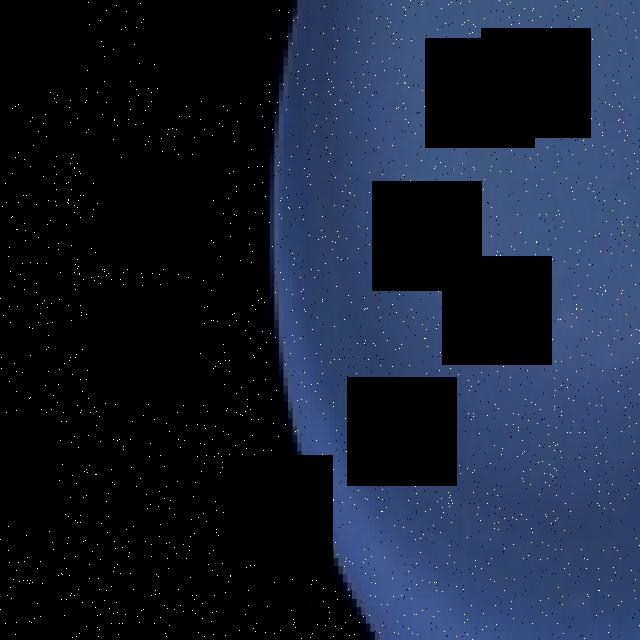Neptune: (265, 0, 640, 640)
